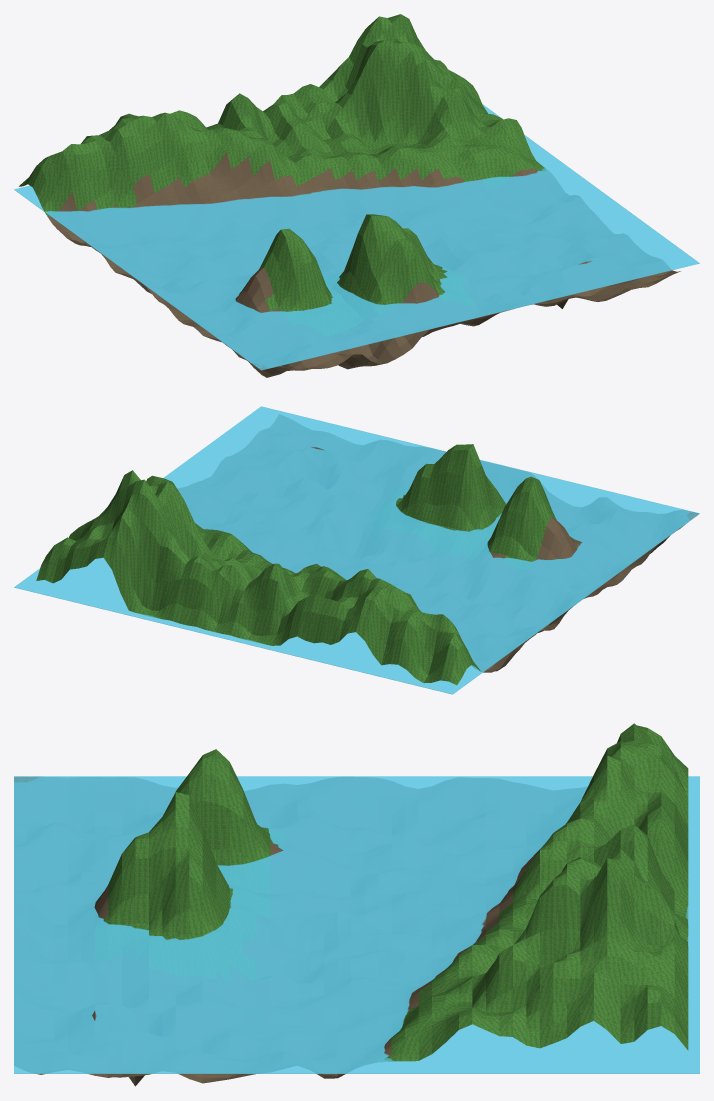
Rendered from Laguna.fbx.
The picture shows the model from 3 angles, top to bottom: view 1: azimuth 30°, elevation 25°; view 2: azimuth 150°, elevation 25°; view 3: azimuth 270°, elevation 25°; orthographic projection. The views are drawn at different scales.
Visible parts, largest first — view 1: Group2, Model; view 2: Model, Group2; view 3: Model, Group2.
Boxes of the visible parts, box(x1,y1,x2,y2) form: Group2: box(19, 14, 680, 377); Model: box(14, 104, 699, 370); Model: box(14, 406, 699, 694); Group2: box(36, 444, 698, 685); Model: box(14, 776, 699, 1073); Group2: box(14, 723, 688, 1086).
Bounding box in the file's own units: 156 × 57.48 × 153.
